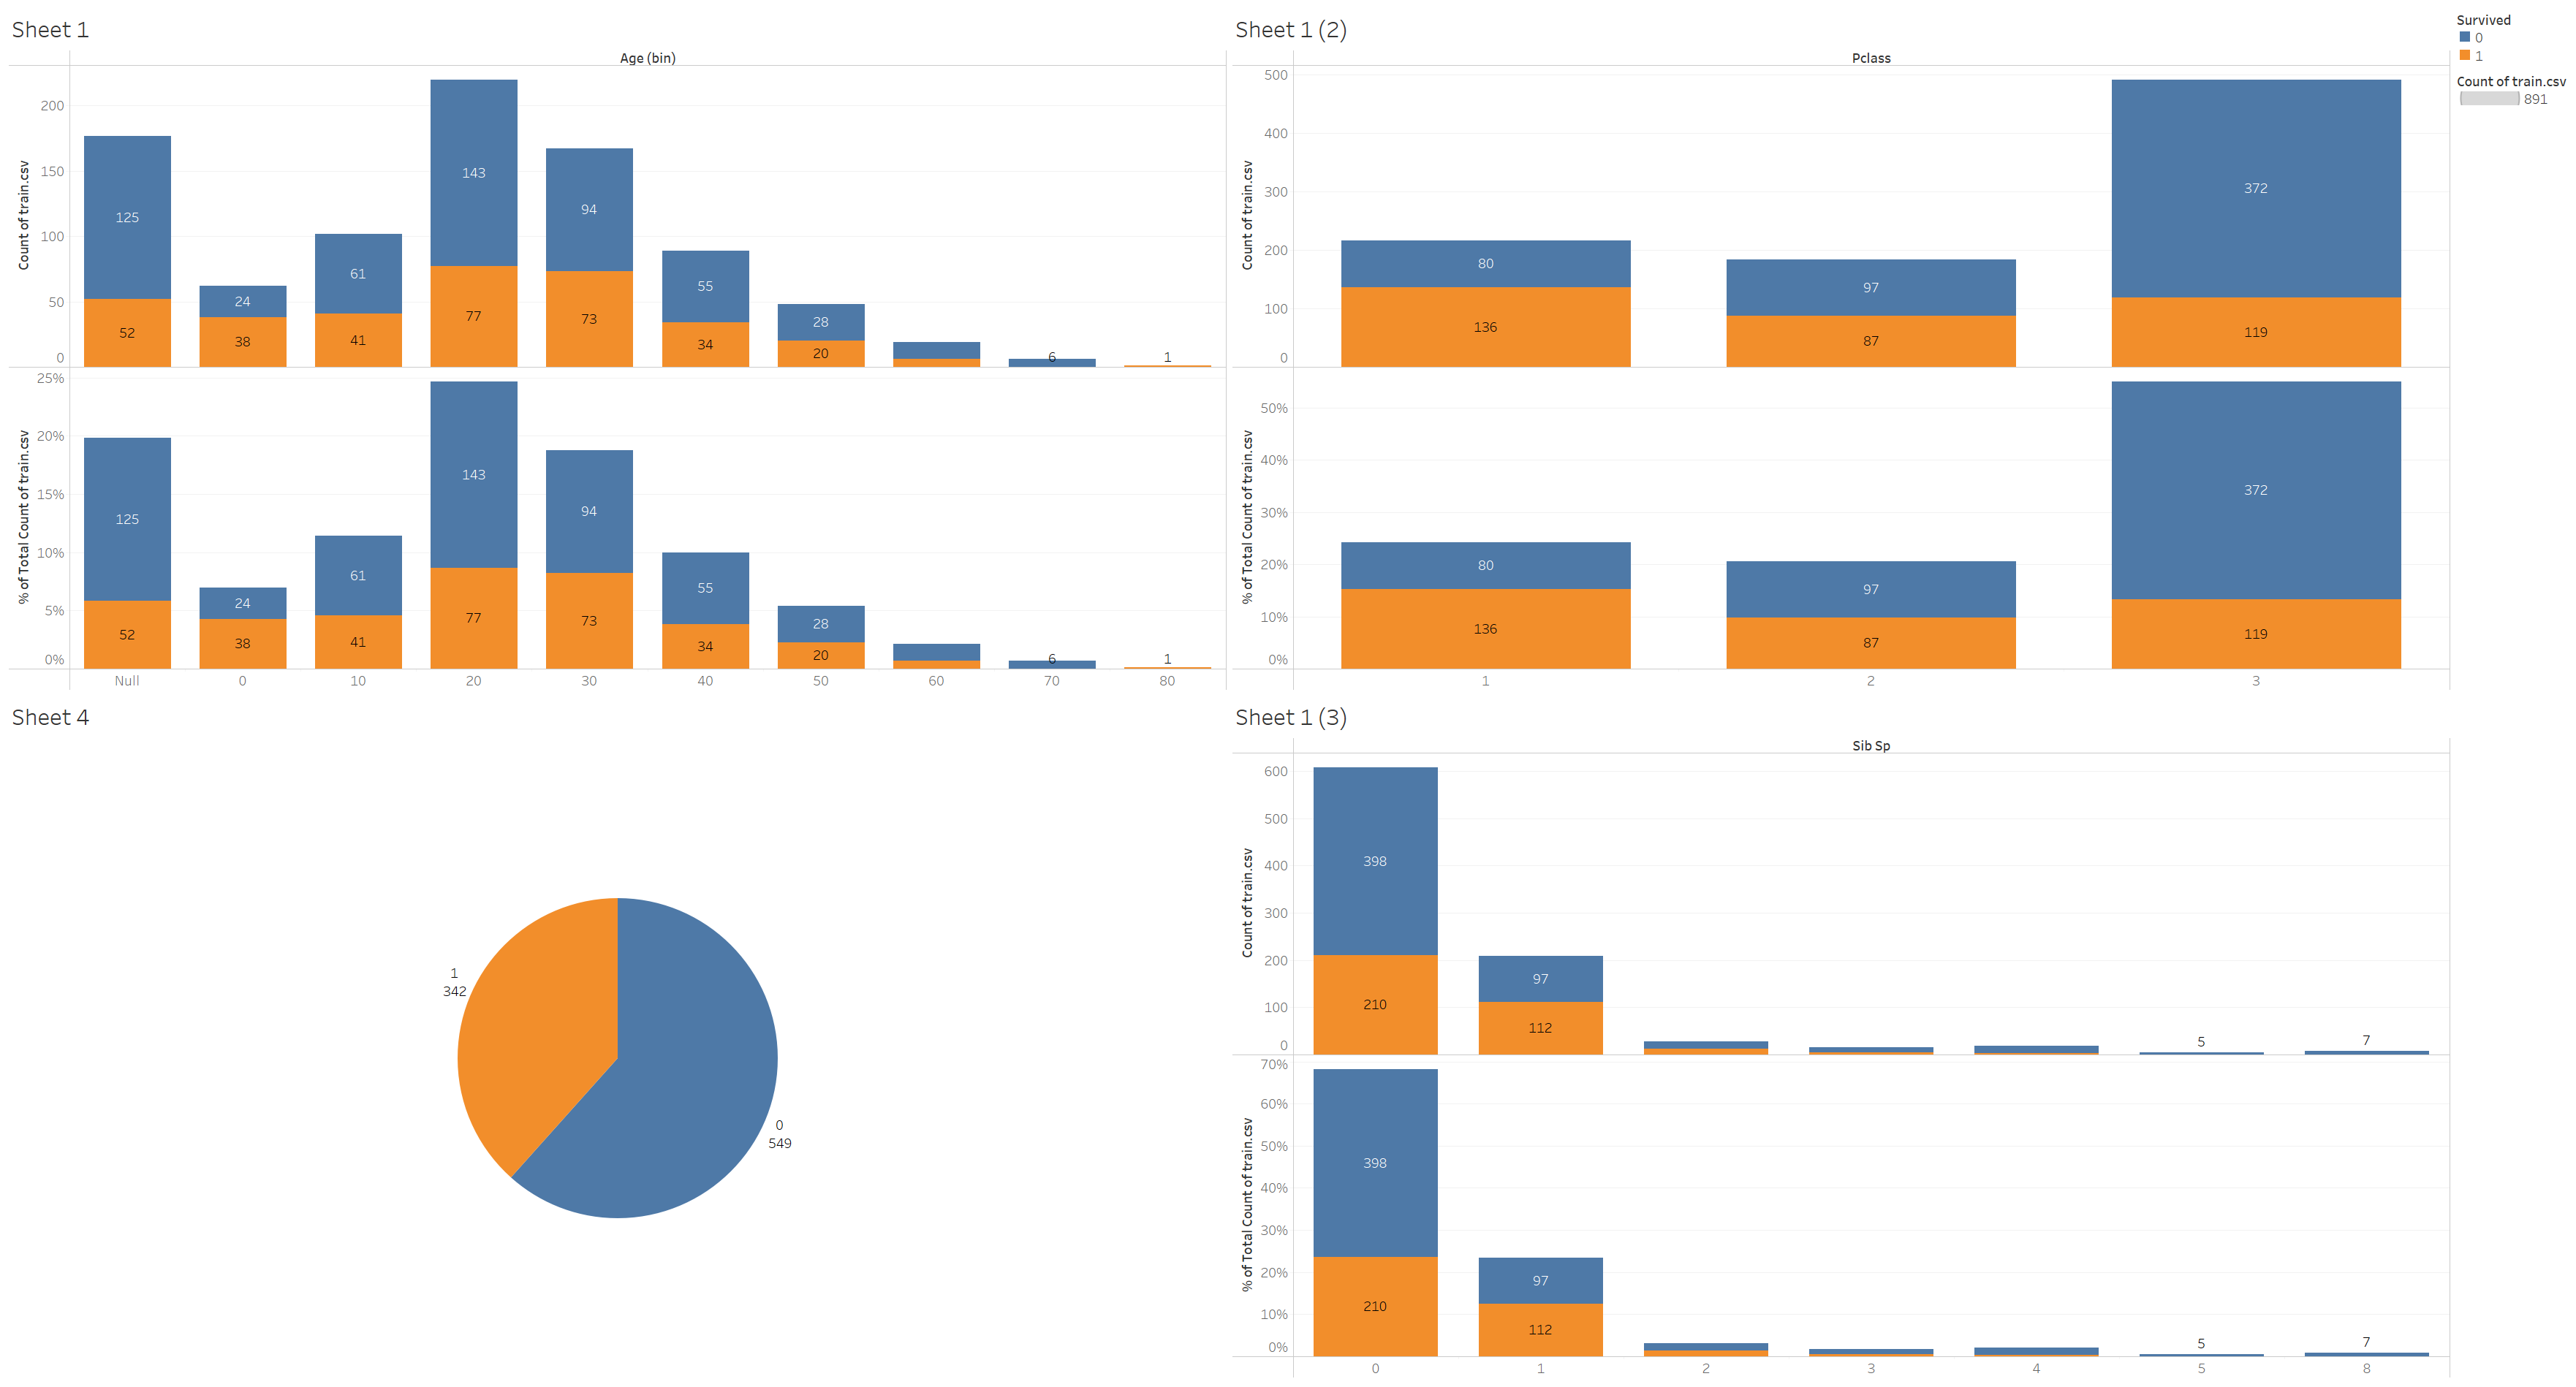

The dashboard page shown, as its layout file describes it:
{"tool":"tableau","page":{"name":"Dashboard 1","canvas":[1000,1000],"units":"permille","ordinal":0},"visuals":[{"type":"worksheet","title":"Sheet 1","mark":"Automatic","rows":["train.csv_DB0D93F3F9D840C384A5BF6F99449617","train.csv_DB0D93F3F9D840C384A5BF6F99449617"],"cols":["Age (bin)"],"box":[2.3,4.2,475,495.8]},{"type":"worksheet","title":"Sheet 1 (2)","mark":"Automatic","rows":["train.csv_DB0D93F3F9D840C384A5BF6F99449617","train.csv_DB0D93F3F9D840C384A5BF6F99449617"],"cols":["Pclass"],"box":[477.3,4.2,475,495.8]},{"type":"legend","title":"Sheet 1","param":"[federated.116nlvd0clvfjc172l50d09w96uf].[none:Survived:ok]","box":[952.3,4.2,45.4,44.2]},{"type":"legend","title":"Sheet 4","param":"[federated.116nlvd0clvfjc172l50d09w96uf].[__tableau_internal_object_id__].[cnt:t","box":[952.3,48.5,45.4,31.1]},{"type":"worksheet","title":"Sheet 4","mark":"Pie","box":[2.3,500,475,495.8]},{"type":"worksheet","title":"Sheet 1 (3)","mark":"Automatic","rows":["train.csv_DB0D93F3F9D840C384A5BF6F99449617","train.csv_DB0D93F3F9D840C384A5BF6F99449617"],"cols":["SibSp"],"box":[477.3,500,475,495.8]}]}

Visuals, with their boxes on the dashboard's canvas, which has no fixed pixel size, in thousandths of its width and height (x1, y1, x2, y2). These are canvas units, not pixel positions in the 2576x1387 screenshot, which may show the page scaled, cropped or inside an application window:
"Sheet 1" worksheet: box=[2, 4, 477, 500]
"Sheet 1 (2)" worksheet: box=[477, 4, 952, 500]
"Sheet 1" legend: box=[952, 4, 998, 48]
"Sheet 4" legend: box=[952, 48, 998, 80]
"Sheet 4" worksheet (Pie marks): box=[2, 500, 477, 996]
"Sheet 1 (3)" worksheet: box=[477, 500, 952, 996]
